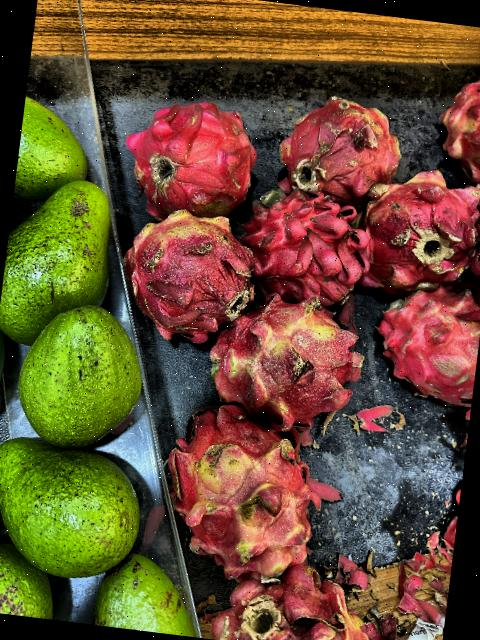buah-naga-belum-matang: (145, 396, 340, 581), (199, 291, 364, 428), (347, 159, 480, 293), (117, 205, 253, 332), (370, 276, 480, 422), (273, 87, 407, 205), (205, 561, 384, 640)
buah-naga-matang: (237, 171, 379, 312), (118, 80, 268, 210), (437, 61, 480, 172)
